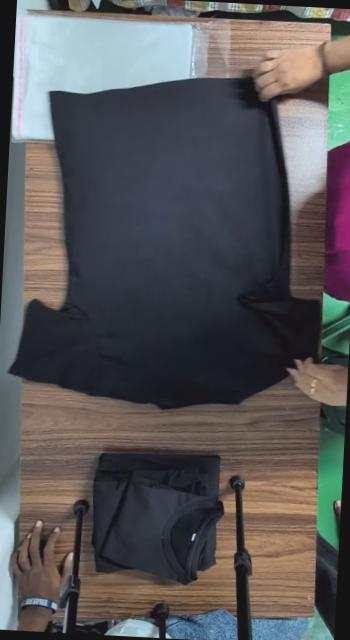new-garment: (10, 77, 318, 408)
